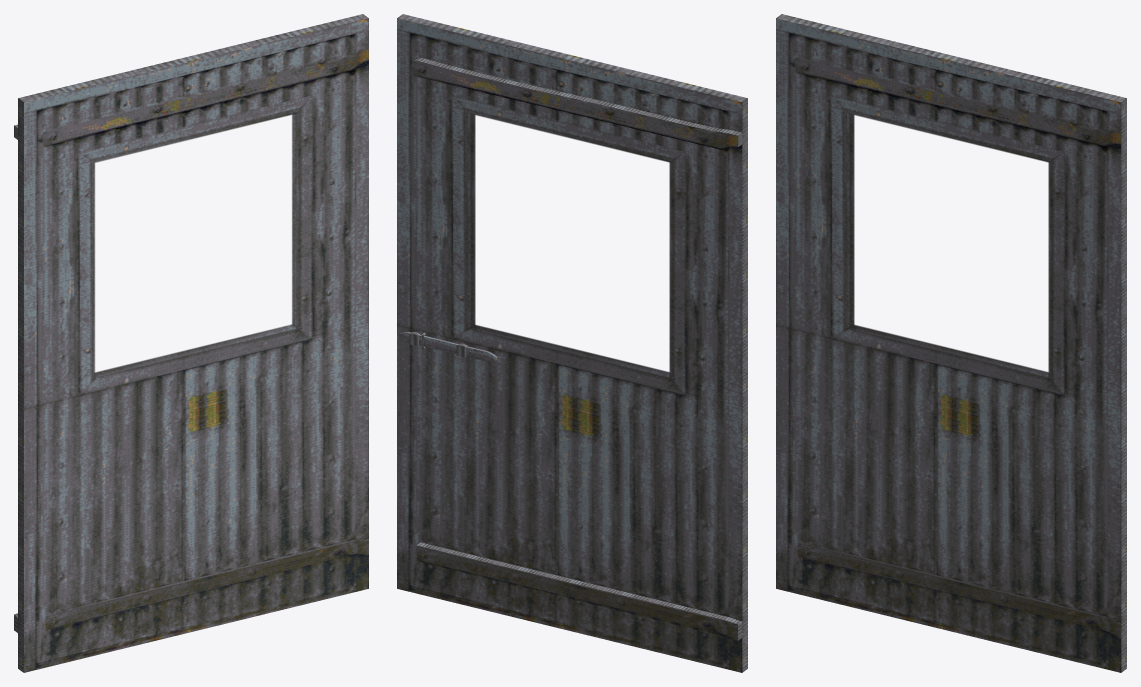
Rendered from door_08.glb.
3 views of the same model, side by side, from view 1: azimuth 30°, elevation 25°; view 2: azimuth 150°, elevation 25°; view 3: azimuth 330°, elevation 25° (orthographic).
Visible parts, largest first — view 1: polySurface33.001; view 2: polySurface33.001; view 3: polySurface33.001.
Boxes of the visible parts, box(x1,y1,x2,y2) form: polySurface33.001: box(14, 14, 368, 672); polySurface33.001: box(397, 14, 747, 672); polySurface33.001: box(776, 14, 1126, 672).
Size of the model in its own units: 1.33 by 2.1 by 0.0655.
2 materials, 2 textured.
